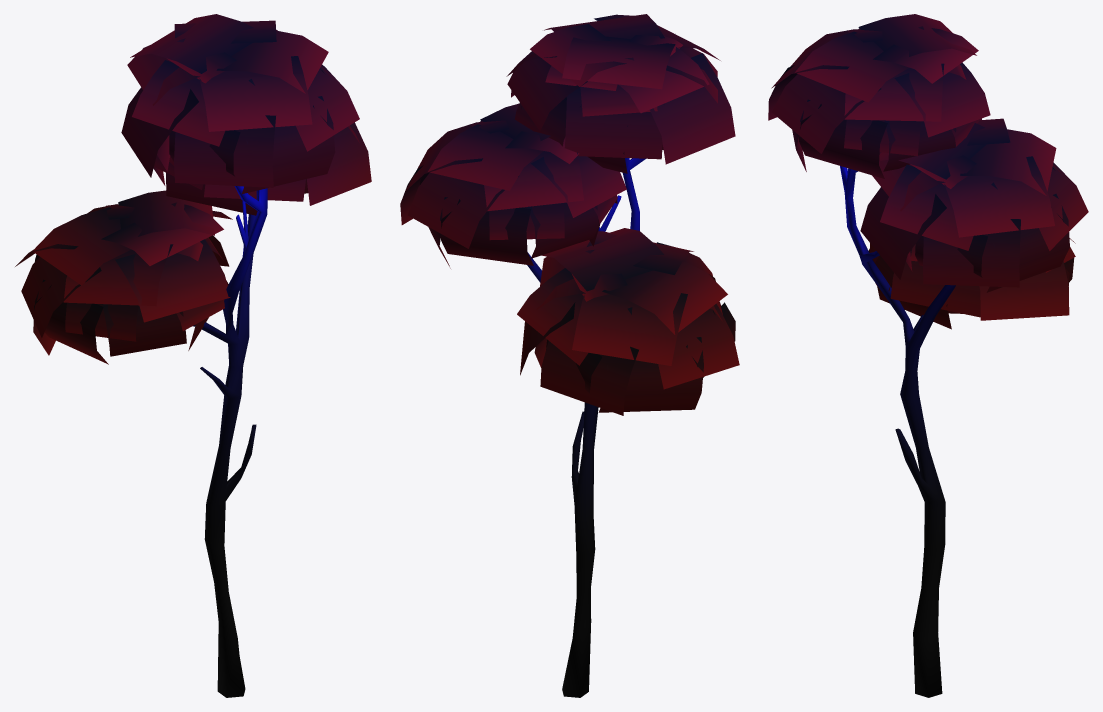
The model's file is tree2_C.fbx.
3 views of the same model, side by side, from view 1: azimuth 30°, elevation 25°; view 2: azimuth 150°, elevation 25°; view 3: azimuth 270°, elevation 25° (orthographic). The views are drawn at different scales.
Visible parts, largest first — view 1: Tree_02_a_LOD0.001; view 2: Tree_02_a_LOD0.001; view 3: Tree_02_a_LOD0.001.
Boxes of the visible parts, <box> form: Tree_02_a_LOD0.001: <box>15,14,371,697</box>; Tree_02_a_LOD0.001: <box>400,14,739,697</box>; Tree_02_a_LOD0.001: <box>768,14,1088,697</box>.
Size of the model in its own units: 303 by 613 by 277.
